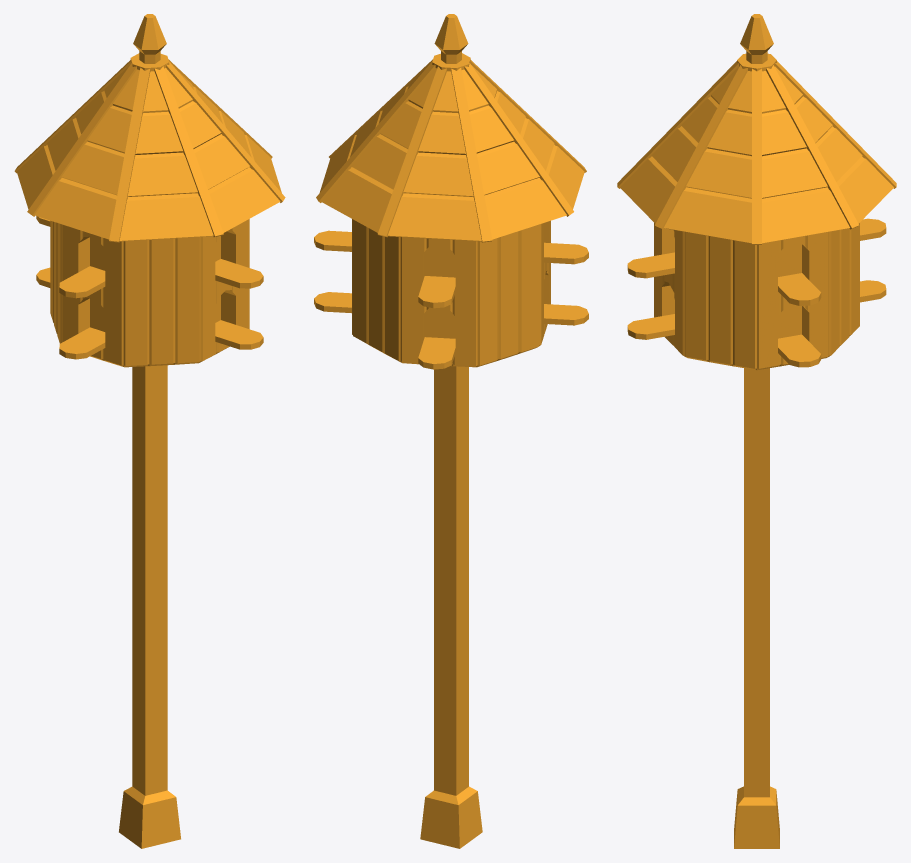
The model's file is SM_Dovecote.fbx.
The picture shows the model from 3 angles, left to right: view 1: azimuth 30°, elevation 25°; view 2: azimuth 150°, elevation 25°; view 3: azimuth 270°, elevation 25°; orthographic projection.
Visible parts, largest first — view 1: dovecote; view 2: dovecote; view 3: dovecote.
Part boxes in pixels (x1,y1,x2,y2): dovecote: [14, 14, 285, 848]; dovecote: [314, 14, 588, 848]; dovecote: [617, 14, 896, 848].
Size of the model in its own units: 1.08 by 3.5 by 1.08.
